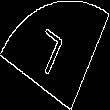L_SW: (36, 26, 74, 84)
